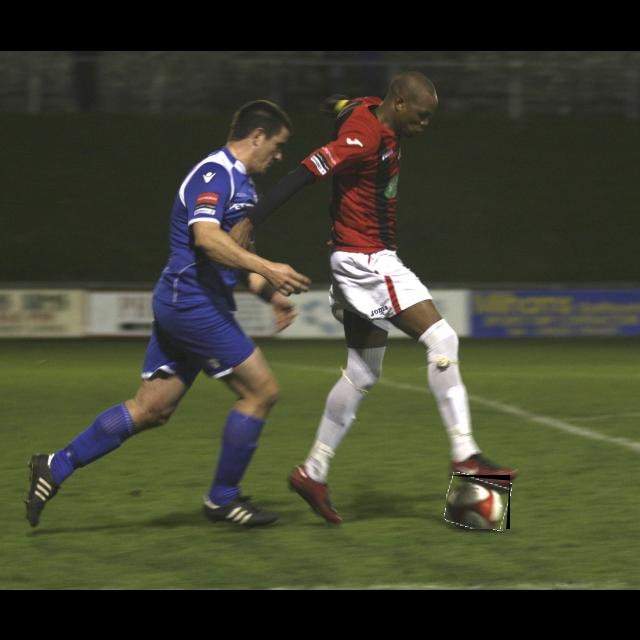Football: (446, 475, 510, 529)
